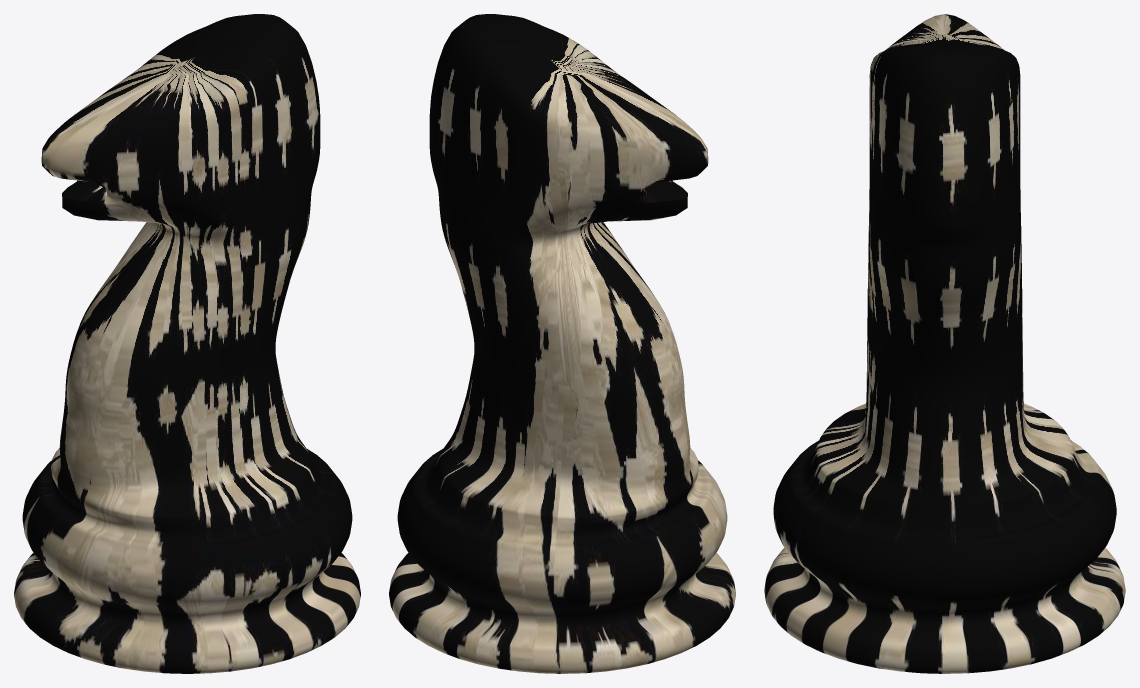
The model's file is knight_light.obj.
3 renders of one model, left to right at view 1: azimuth 30°, elevation 25°; view 2: azimuth 150°, elevation 25°; view 3: azimuth 270°, elevation 25°, orthographic. The views are drawn at different scales.
Parts seen in each view (by area): view 1: mesh01; view 2: mesh01; view 3: mesh01.
Boxes of the visible parts, left/top/right/bottom form: mesh01: left=14, top=14, right=360, bottom=673; mesh01: left=389, top=14, right=735, bottom=673; mesh01: left=764, top=14, right=1125, bottom=673.
Bounding box in the file's own units: 11.28 × 20.35 × 11.28.
1 material, 1 textured.
